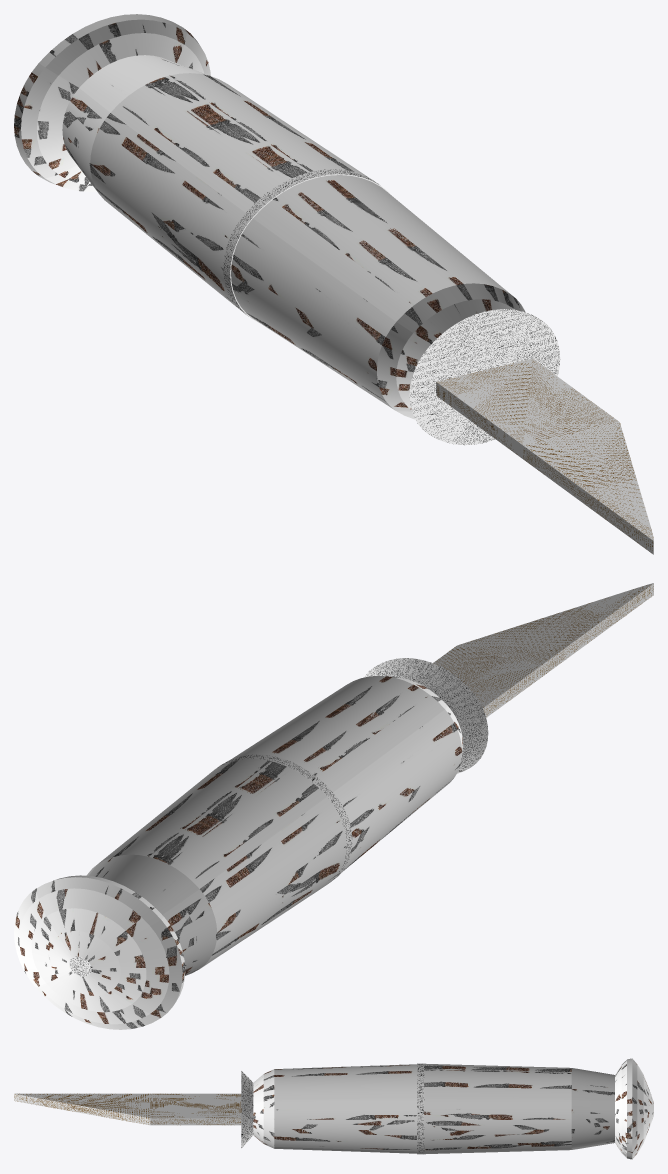
File: model_scale.obj
3 renders of one model, top to bottom at view 1: azimuth 30°, elevation 25°; view 2: azimuth 150°, elevation 25°; view 3: azimuth 270°, elevation 25°, orthographic. The views are drawn at different scales.
Visible parts, largest first — view 1: mesh1_mesh1-geometry; view 2: mesh1_mesh1-geometry; view 3: mesh1_mesh1-geometry.
Boxes of the visible parts, left/top/right/bottom form: mesh1_mesh1-geometry: left=14, top=14, right=653, bottom=554; mesh1_mesh1-geometry: left=14, top=583, right=653, bottom=1029; mesh1_mesh1-geometry: left=14, top=1058, right=653, bottom=1159.
Bounding box in the file's own units: 0.0395 × 0.033 × 0.2153.
